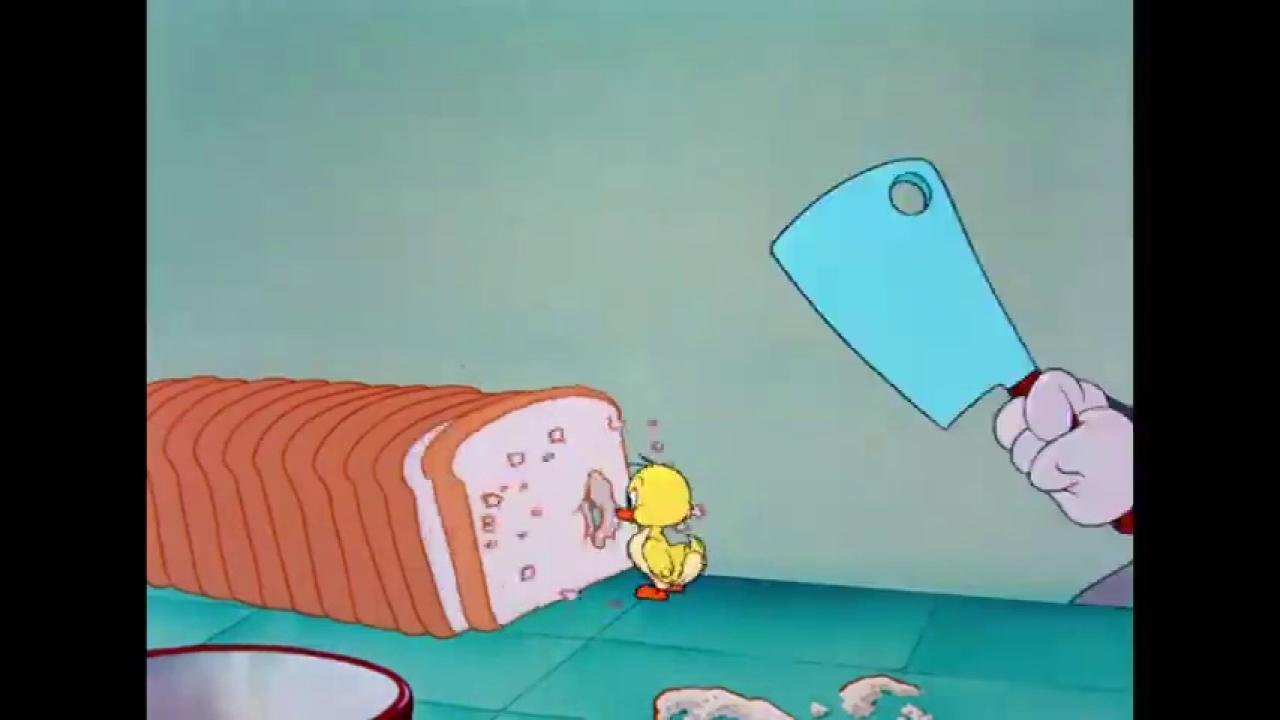Tom: (991, 351, 1133, 537)
